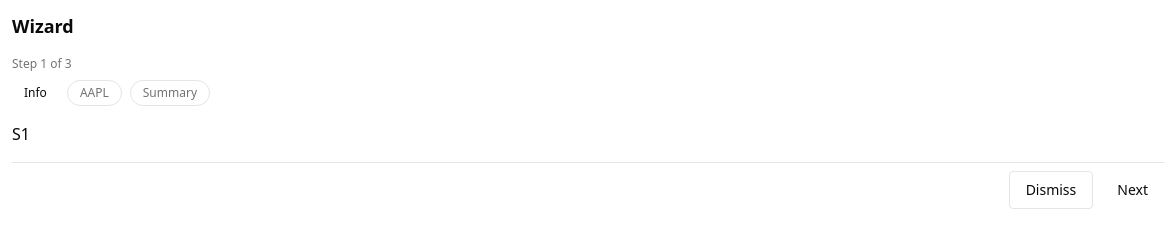
Wizard step indicator › clicking a chip jumps directly to that step (no validation)
Expected: the text "Step 1 of 3" is shown, [12,55,72,72]
Step 1. Click the button "Summary" → {"x": 170, "y": 93}, box [130,80,210,106]
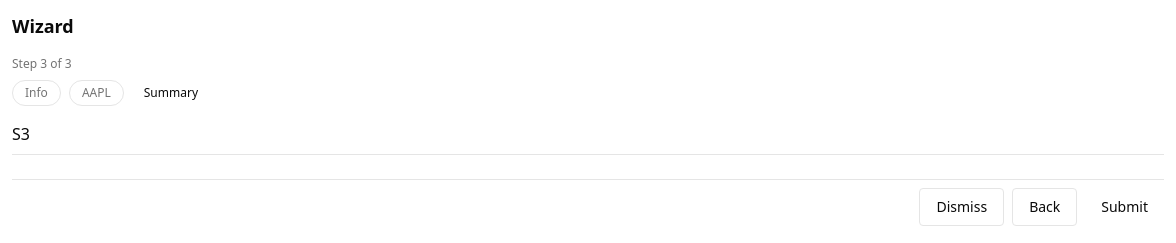
Expected: the text "Step 3 of 3" is shown, [12,55,72,72]
